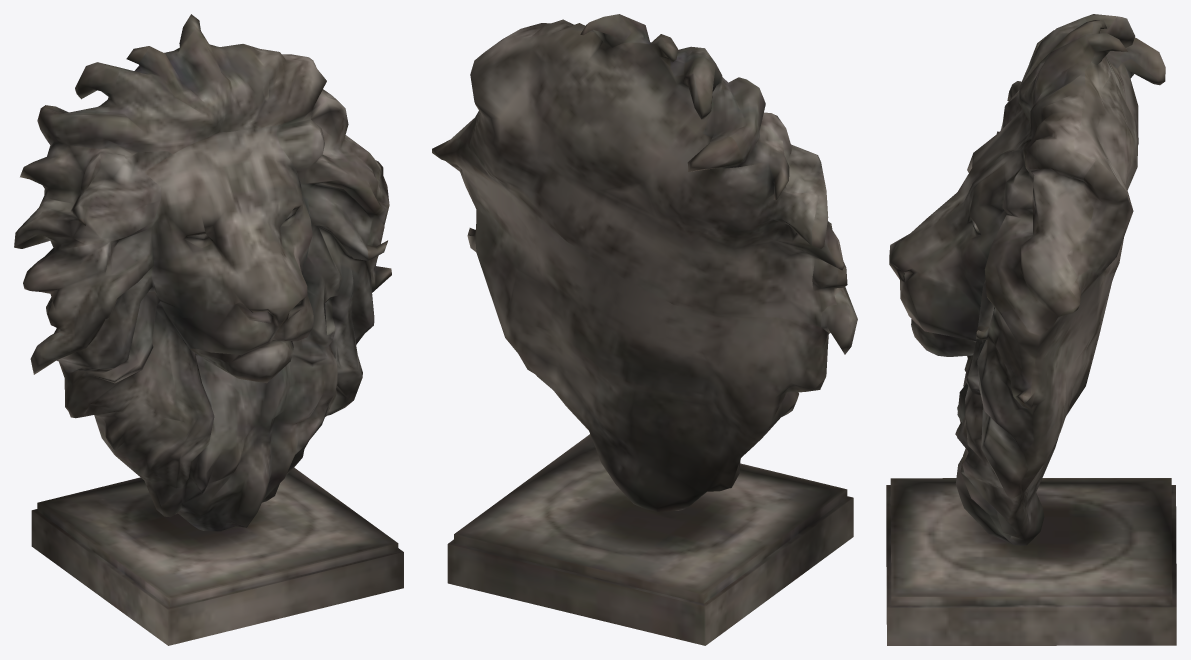
File: ph-lion-head.lod1.glb
3 renders of one model, left to right at view 1: azimuth 30°, elevation 25°; view 2: azimuth 150°, elevation 25°; view 3: azimuth 270°, elevation 25°, orthographic. The views are drawn at different scales.
Parts seen in each view (by area): view 1: lion_head; view 2: lion_head; view 3: lion_head.
Part boxes in pixels (box(x1,y1,x2,y2)): lion_head: box(14, 14, 403, 645); lion_head: box(432, 14, 857, 645); lion_head: box(886, 14, 1176, 645).
Size of the model in its own units: 0.2496 by 0.3396 by 0.161.
Materials: 1 (1 with a texture image).
